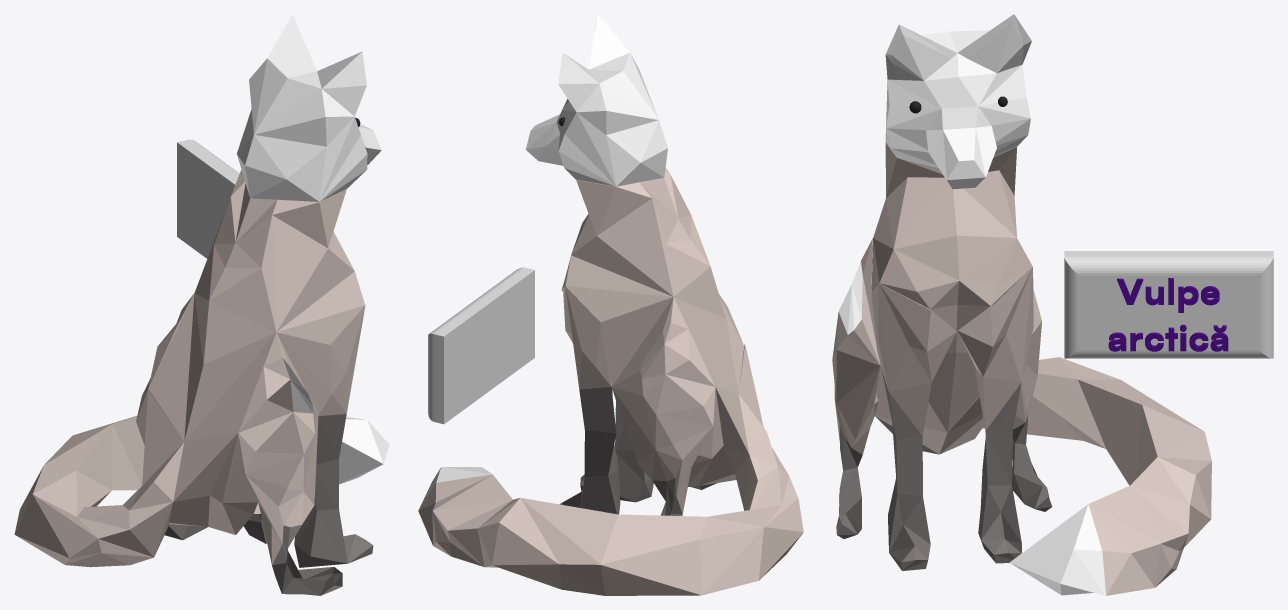
File: FOX.fbx
3 renders of one model, left to right at view 1: azimuth 30°, elevation 25°; view 2: azimuth 150°, elevation 25°; view 3: azimuth 270°, elevation 25°, orthographic. The views are drawn at different scales.
Visible parts, largest first — view 1: model.003, Cube.012; view 2: model.003, Cube.012; view 3: model.003, Cube.012, Text.012.
Part boxes in pixels (x1,y1,x2,y2): model.003: [14, 14, 389, 595]; Cube.012: [177, 139, 239, 258]; model.003: [418, 14, 803, 595]; Cube.012: [428, 267, 534, 424]; model.003: [832, 14, 1211, 595]; Cube.012: [1064, 251, 1273, 358]; Text.012: [1108, 278, 1228, 351].
Size of the model in its own units: 3.62 by 4.85 by 3.56.
